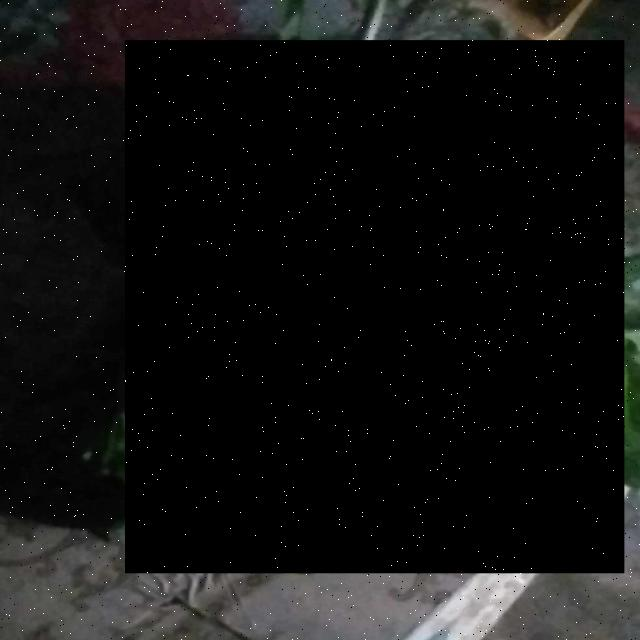Palungo: (125, 41, 625, 574)
